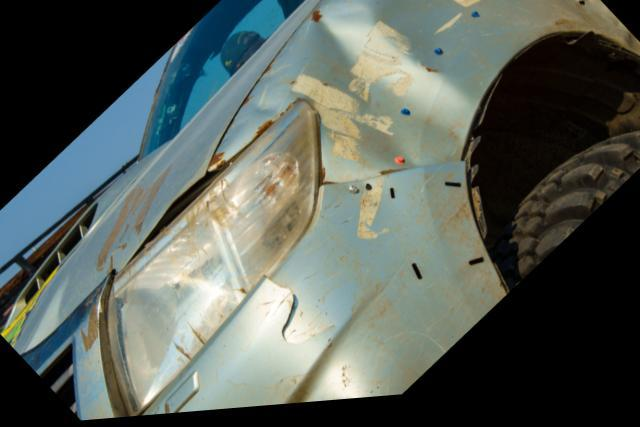crack: (263, 278, 335, 350)
dent: (237, 0, 640, 175)
